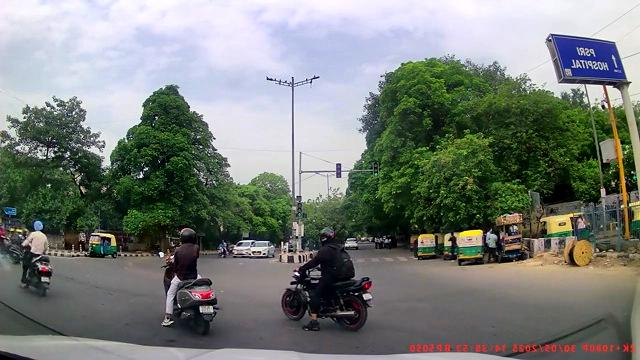motorcycle_with_helmet: (280, 226, 374, 332), (160, 226, 218, 335), (18, 220, 54, 298)
